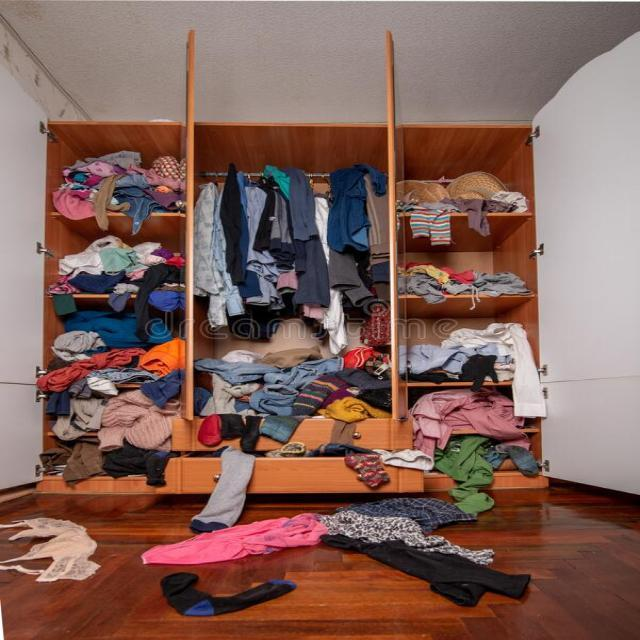clothes: (196, 171, 362, 324), (324, 508, 520, 600), (62, 336, 163, 470), (150, 570, 302, 631), (152, 514, 356, 554), (2, 516, 104, 592), (418, 318, 534, 381), (401, 167, 514, 219), (72, 155, 170, 213), (398, 253, 518, 300), (70, 242, 168, 296), (192, 450, 251, 532)
